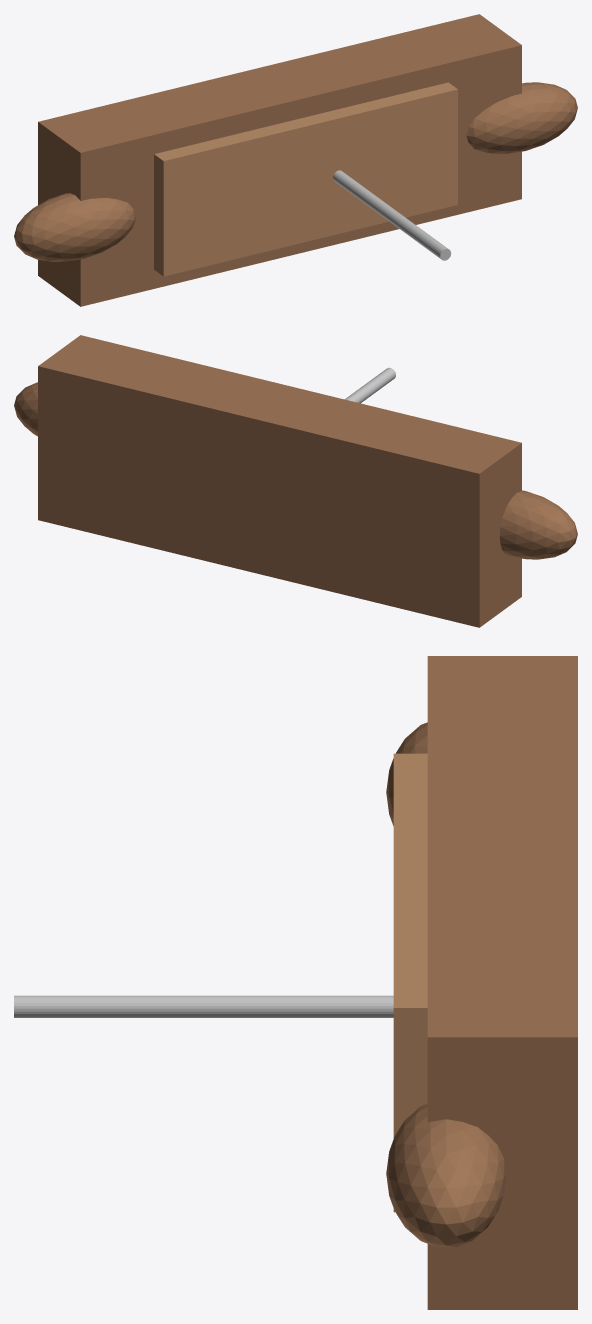
File: sailboat_midpoly.glb
The picture shows the model from 3 angles, top to bottom: view 1: azimuth 30°, elevation 25°; view 2: azimuth 150°, elevation 25°; view 3: azimuth 270°, elevation 25°; orthographic projection. The views are drawn at different scales.
Visible parts, largest first — view 1: hull, deck, sph_back, sph_front, mast; view 2: hull, sph_back, sph_front, mast; view 3: hull, deck, sph_front, mast, sph_back.
Part boxes in pixels (x1,y1,x2,y2): hull: (38,14,521,306); deck: (154,82,457,276); sph_back: (14,193,135,261); sph_front: (466,82,577,154); mast: (333,170,451,260); hull: (38,335,521,627); sph_back: (499,490,577,559); sph_front: (14,382,37,436); mast: (345,367,395,403); hull: (427,656,577,1309); deck: (393,753,427,1212); sph_front: (386,1103,506,1247); mast: (14,995,393,1017); sph_back: (386,722,427,825).
Size of the model in its own units: 3.04 by 0.8 by 1.5.
